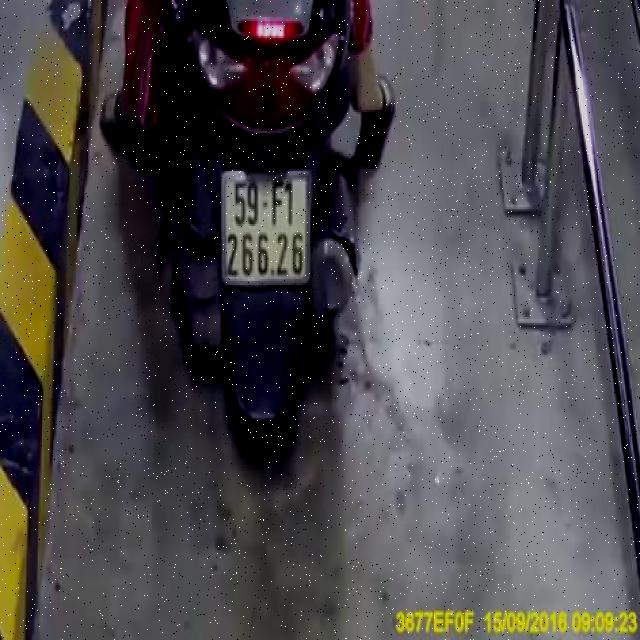1: (283, 177, 294, 228)
2: (227, 232, 240, 277), (276, 232, 289, 277)
5: (234, 180, 246, 228)
6: (291, 230, 305, 276), (241, 231, 254, 277), (257, 231, 269, 277)
9: (247, 179, 260, 228)
F: (271, 176, 284, 226)
